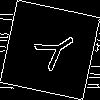Y: (24, 24, 82, 78)
